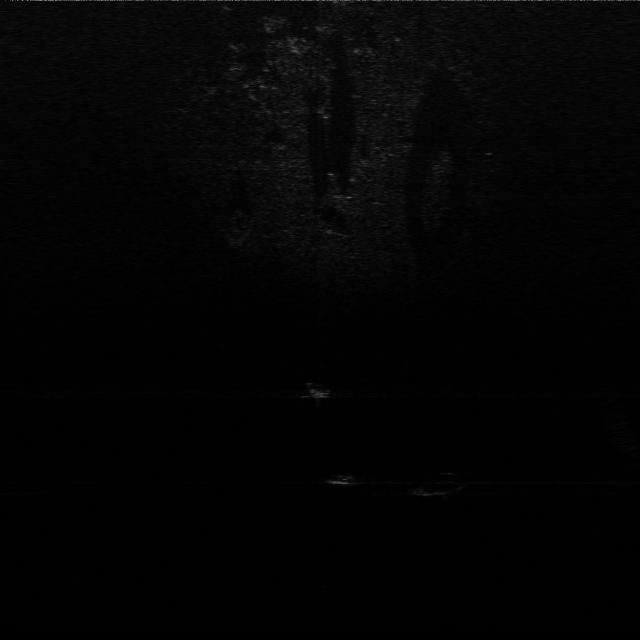cube: (323, 466, 377, 490)
square cage: (303, 376, 343, 402)
tyre: (408, 470, 472, 499)
